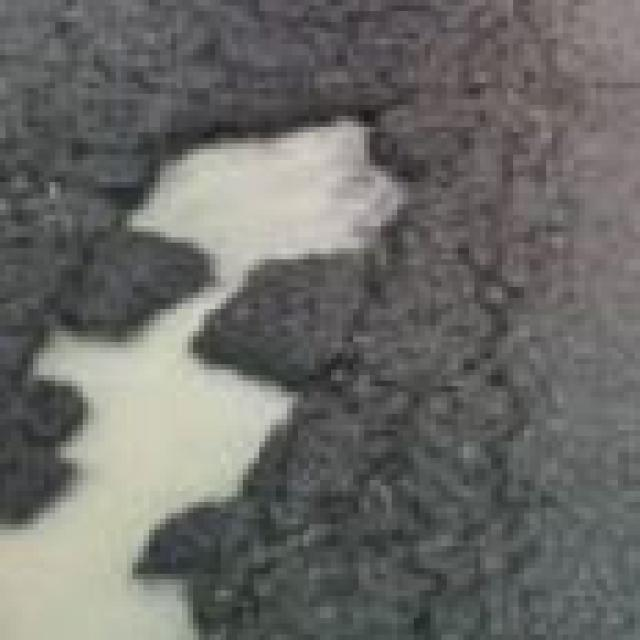major_pothole: (0, 110, 425, 629)
